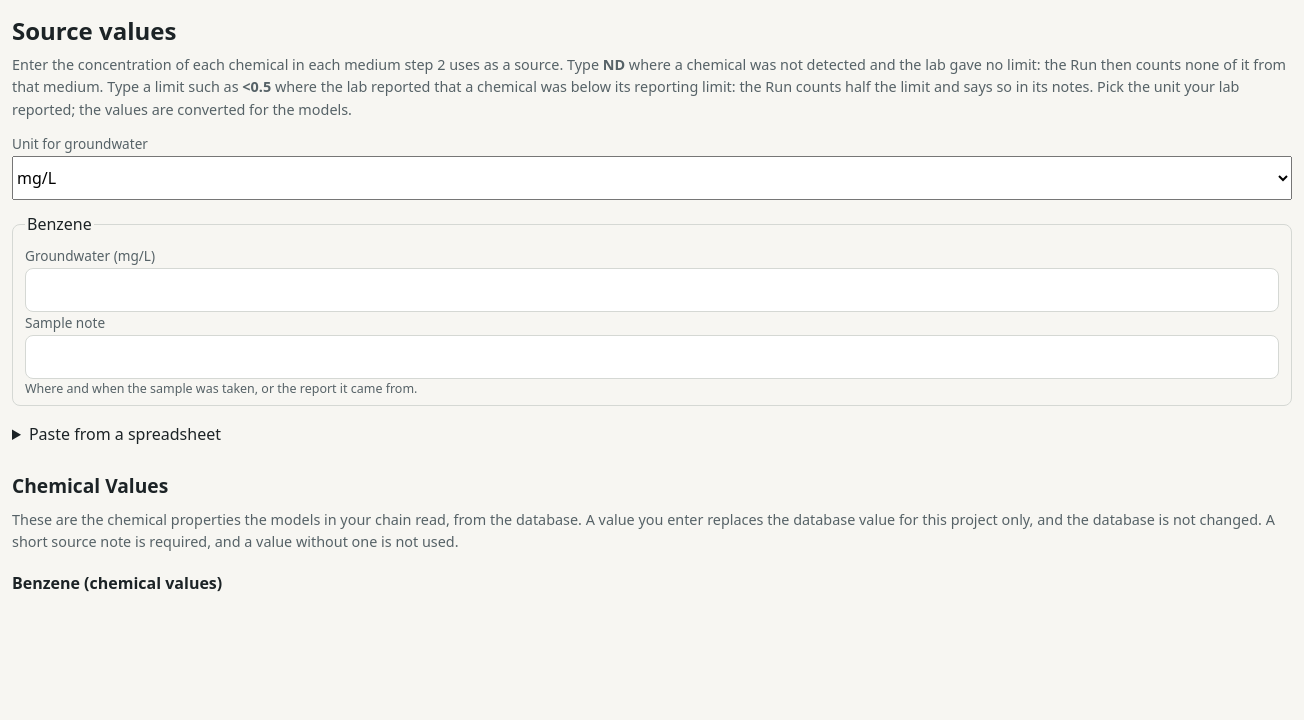
Test case: SourcesStep, 3b › saves a typed value with its unit, accepts ND and names a value it cannot read
The width and height of the screenshot is (1304, 720).
Type "0.5" into the field labelled "Groundwater (mg/L)" at [652, 290], box x1=25 y1=268 x2=1279 y2=312
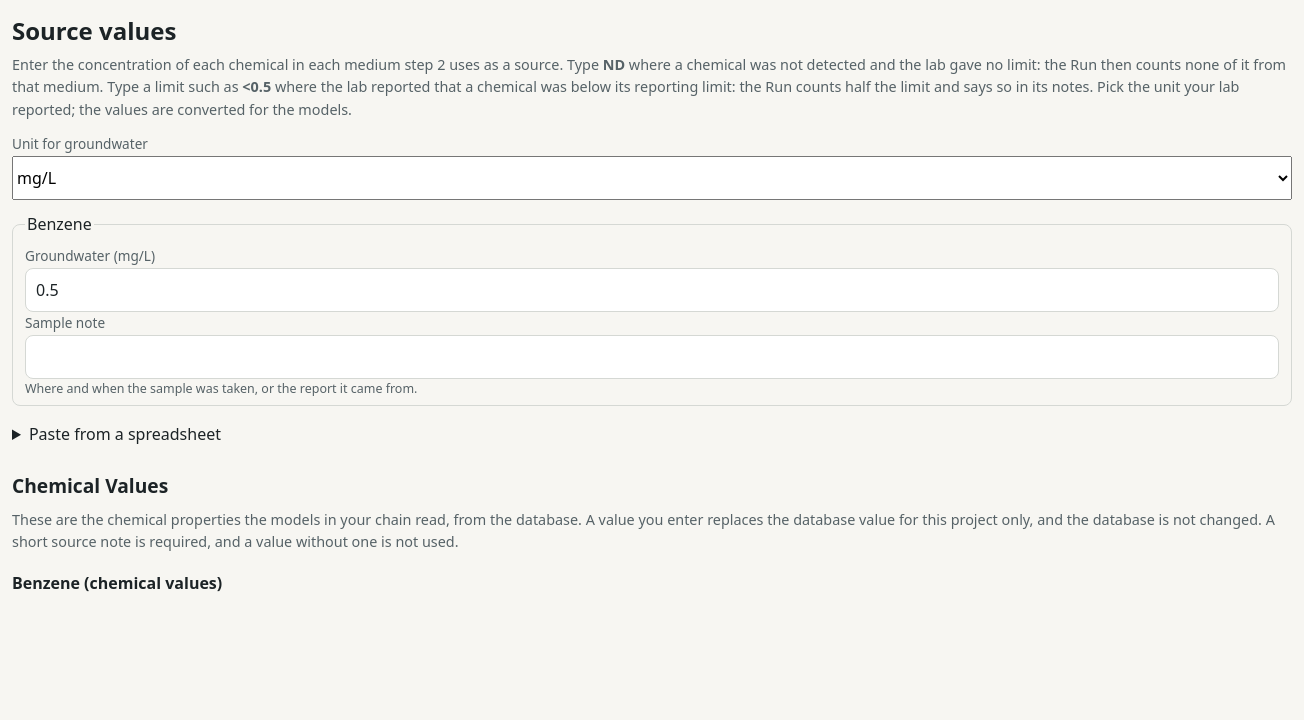
Replace the text in the field labelled "Groundwater (mg/L)" with "nd" at [652, 290], box x1=25 y1=268 x2=1279 y2=312
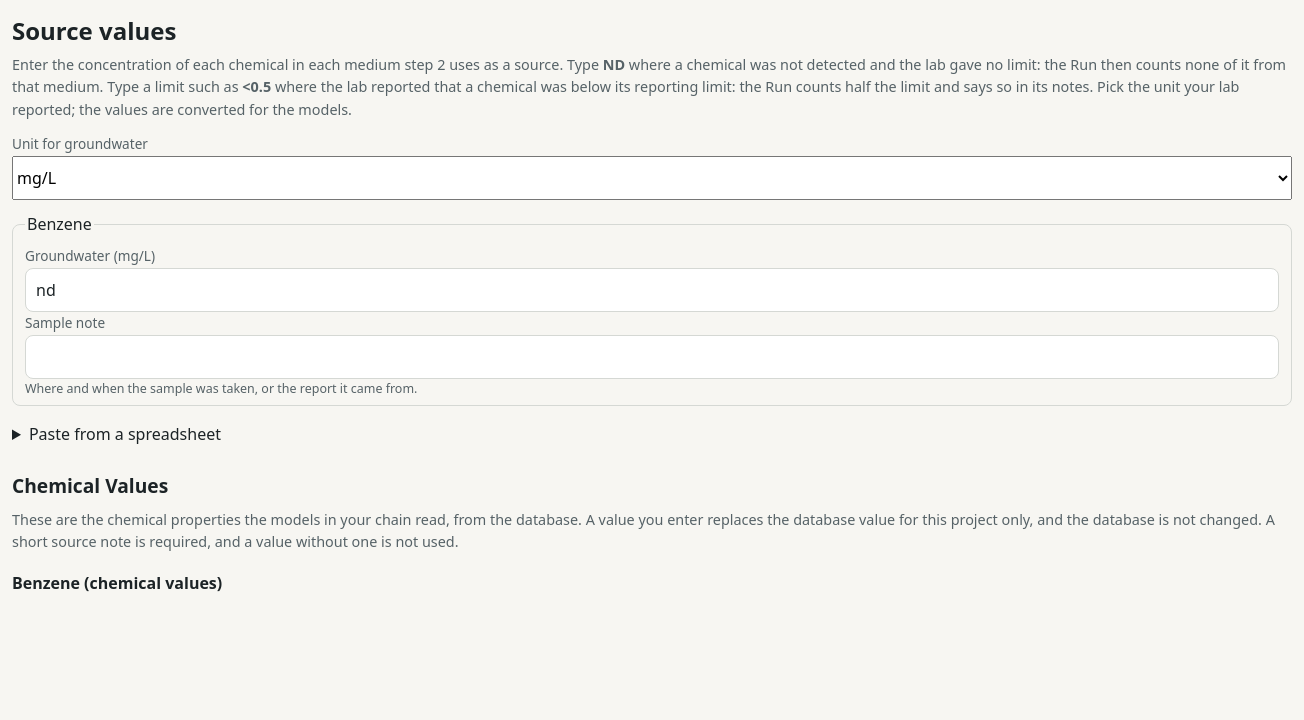
Expected: the text "number above zero" is not shown
Replace the text in the field labelled "Groundwater (mg/L)" with "lots" at [652, 290], box x1=25 y1=268 x2=1279 y2=312
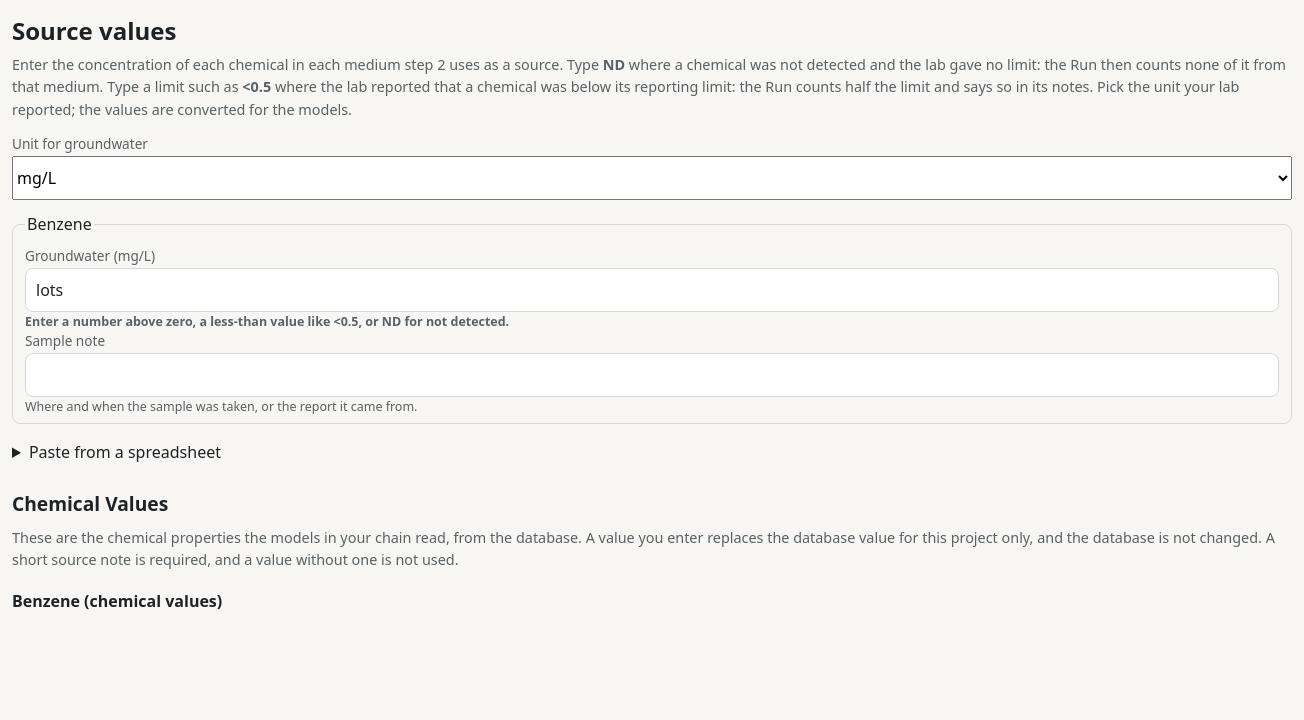
Expected: the text "number above zero" is shown, x1=25 y1=313 x2=509 y2=330
